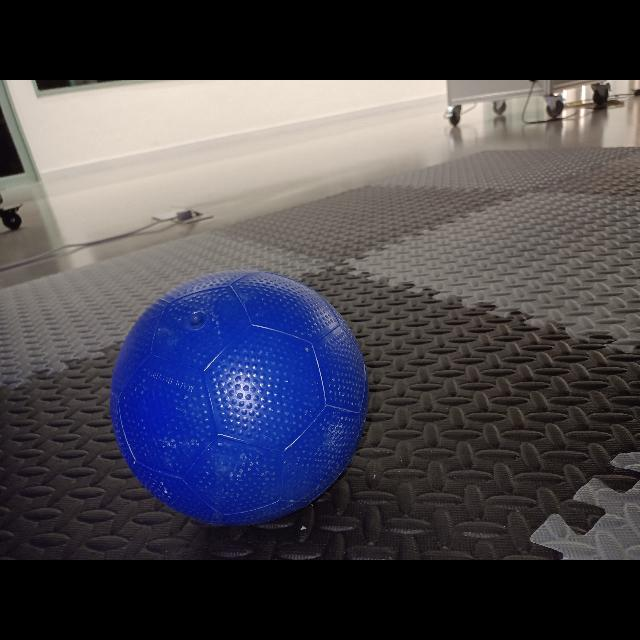B: (113, 272, 370, 530)
